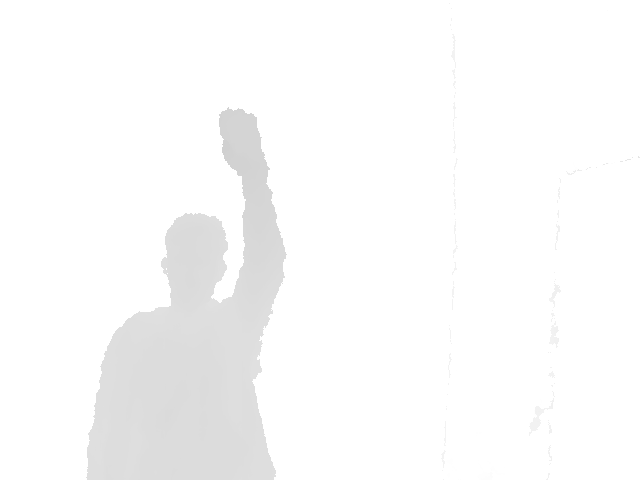hand: (216, 107, 271, 183)
head: (160, 211, 229, 313)
person: (84, 107, 288, 480)
